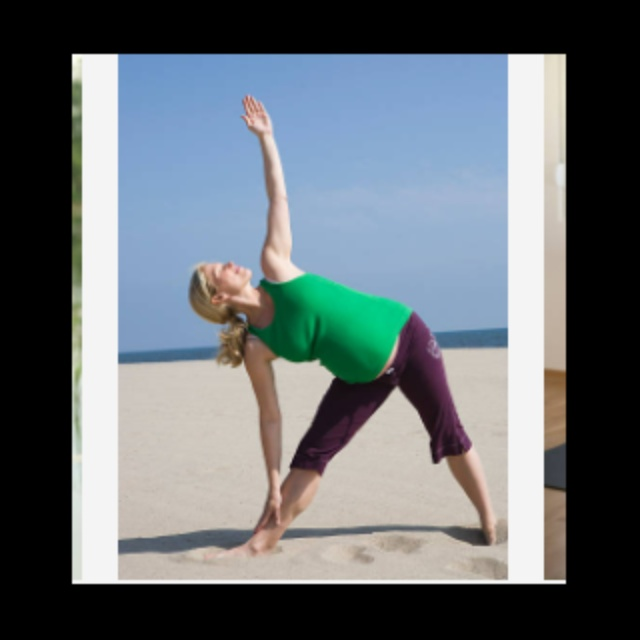Triangle_Pose: (183, 89, 509, 569)
